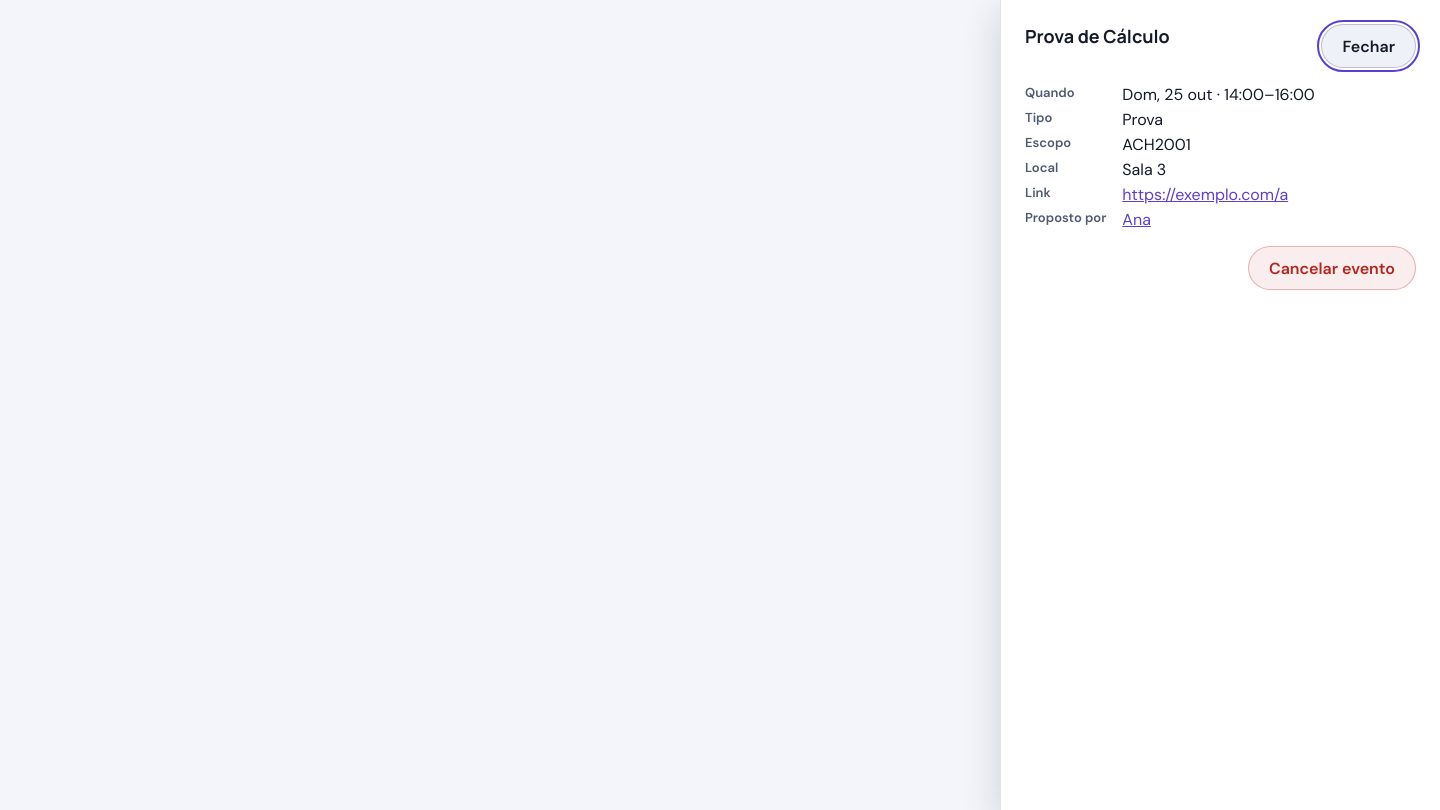
Test: EventDetail › erro do servidor aparece dentro do painel
Click the button "Cancelar evento" at (1332, 268), box top-left (1248, 246), bottom-right (1416, 290)
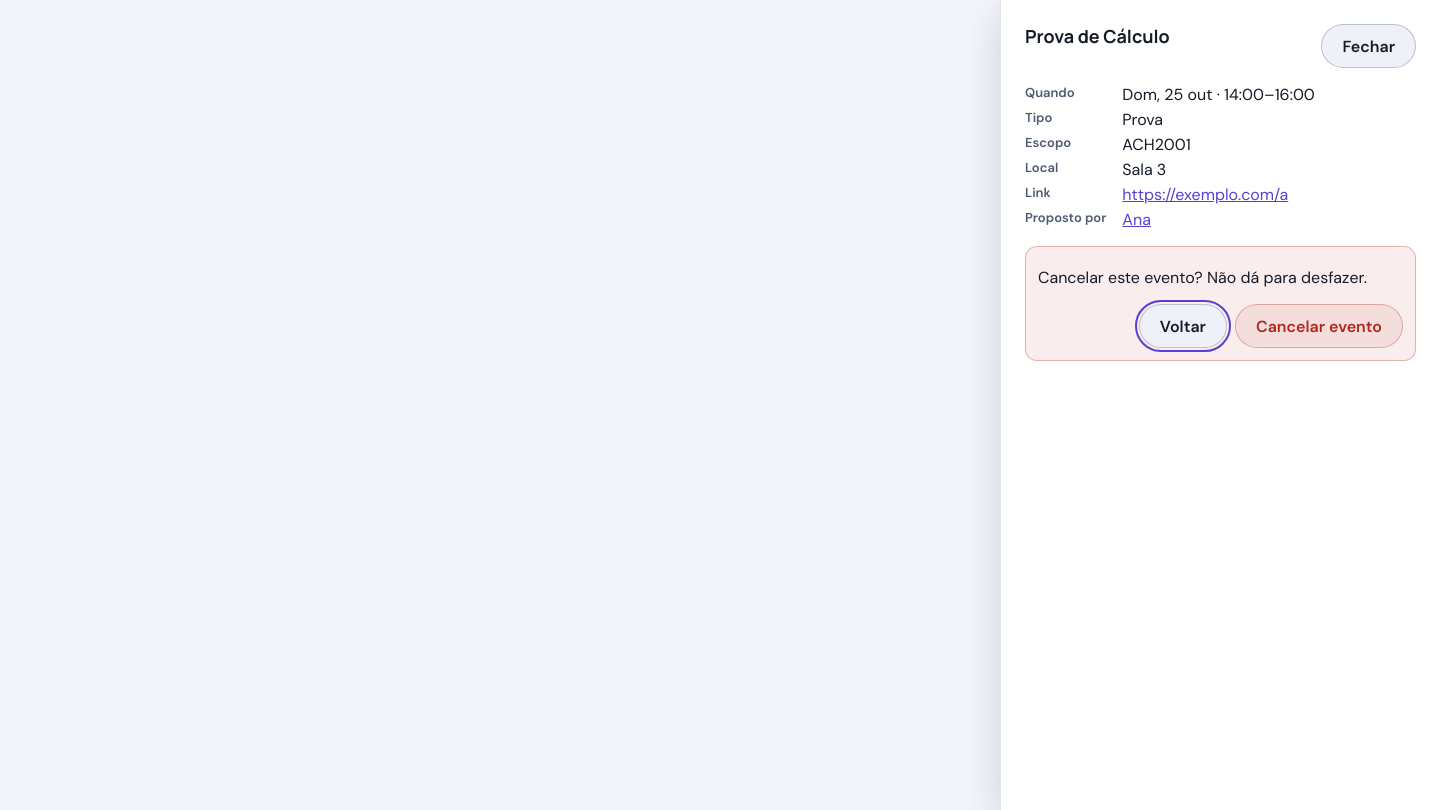
Click the button "Cancelar evento" at (1319, 326), box top-left (1235, 304), bottom-right (1403, 348)
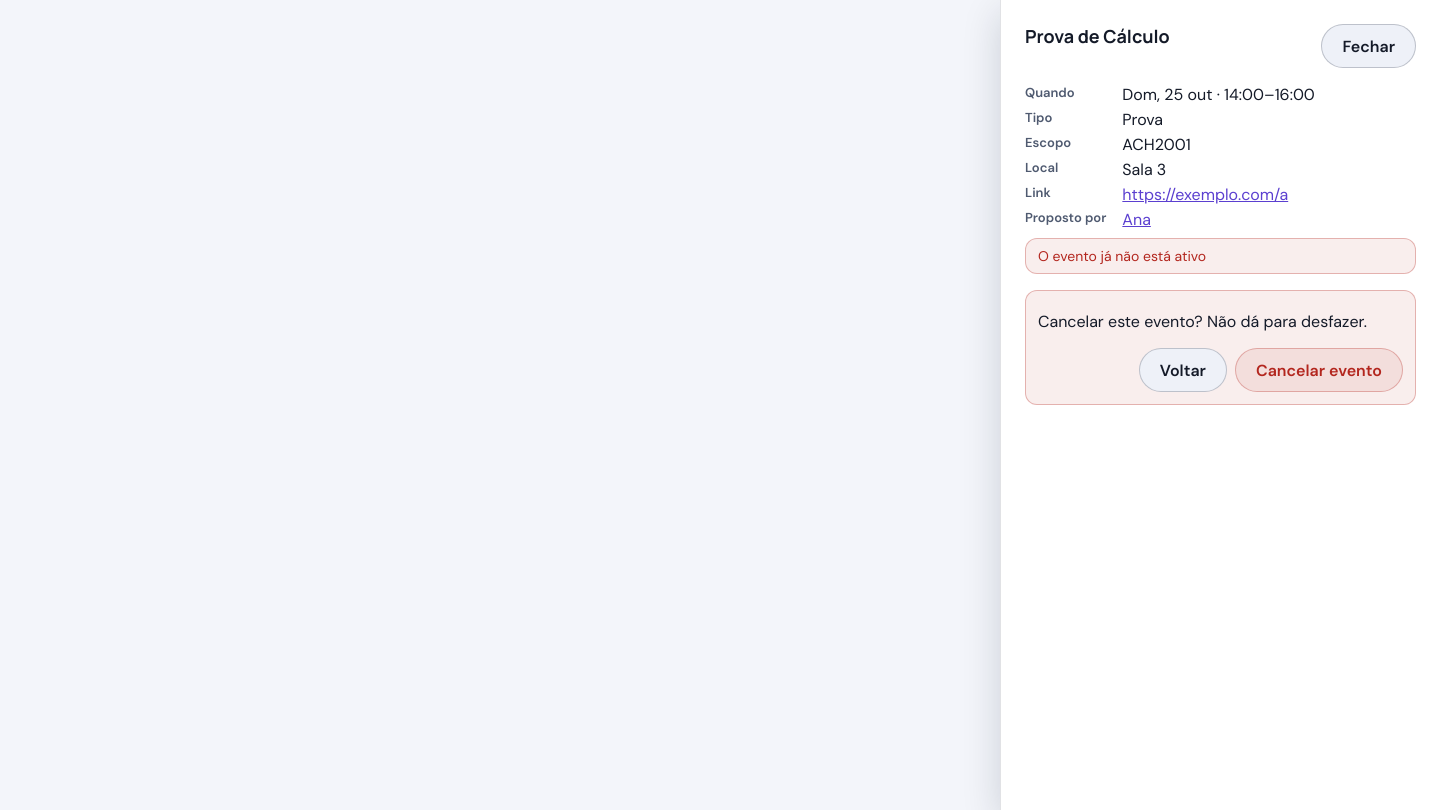
expect the message reads "O evento já não está ativo": met, box top-left (1038, 247), bottom-right (1206, 265)
